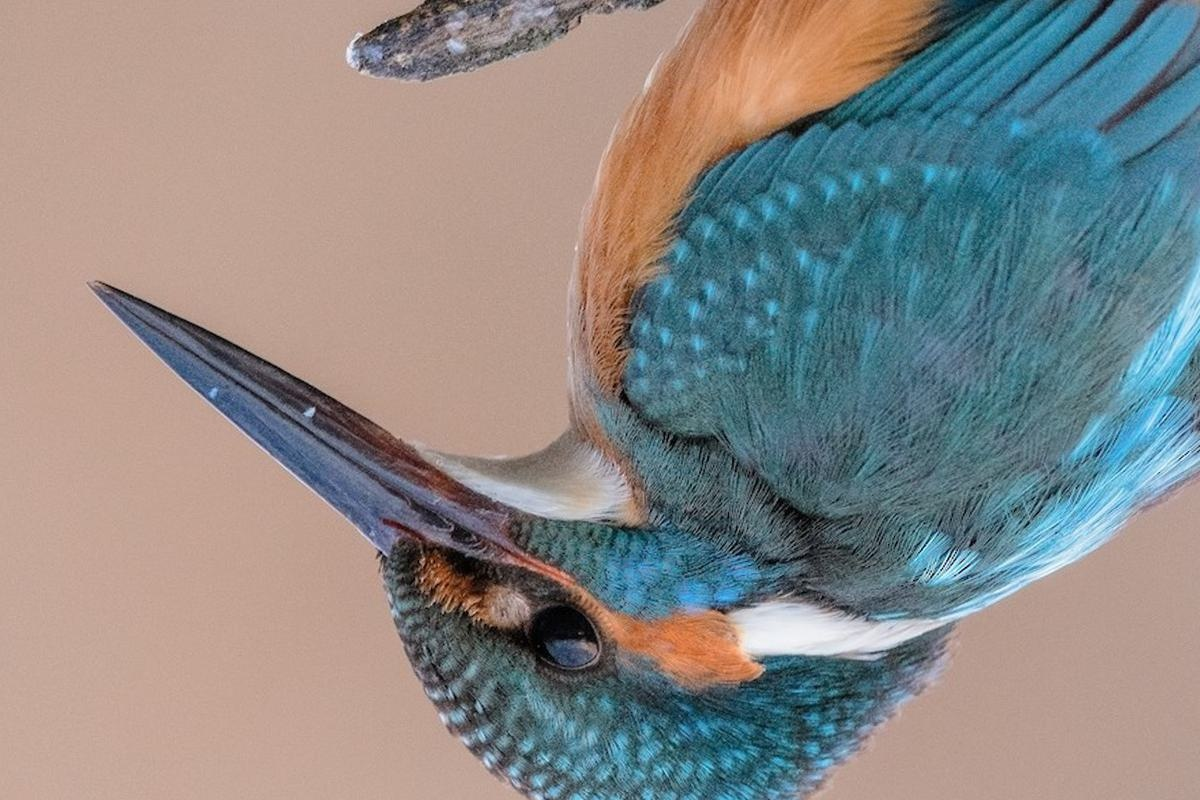kingfisher: (45, 1, 1189, 797)
